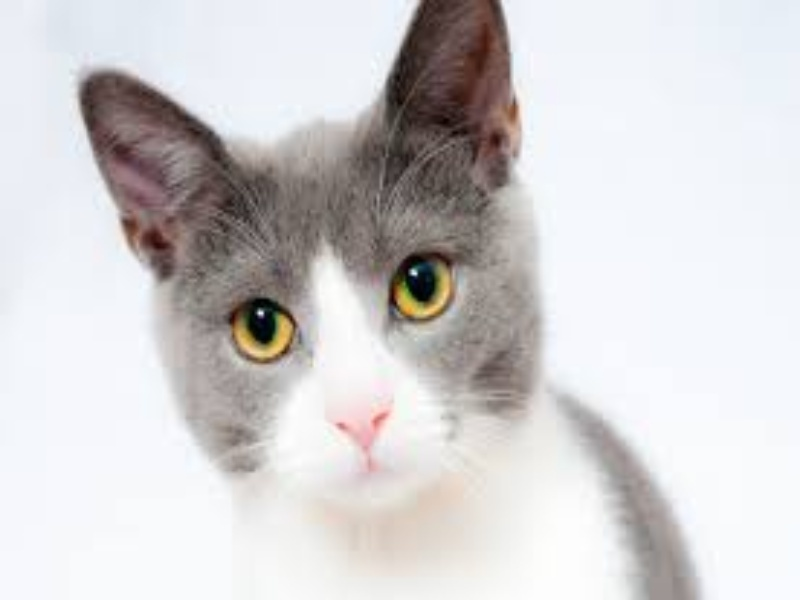cat: (69, 1, 702, 600)
